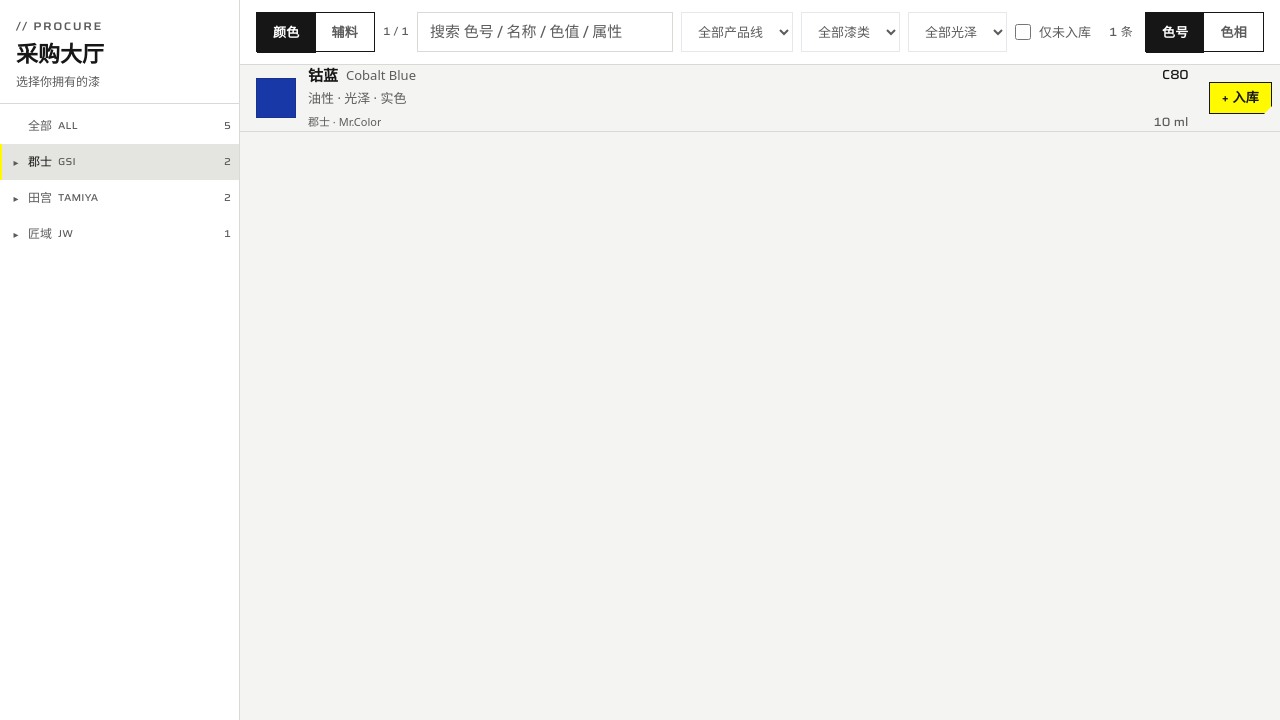
Test: 2.2.2 · 采购页辅料货架与摘要 › 底漆入库弹层也不问「原浆 / 稀释」
Click the tab "辅料".
click(345, 33)  # box 316,13 -> 374,53
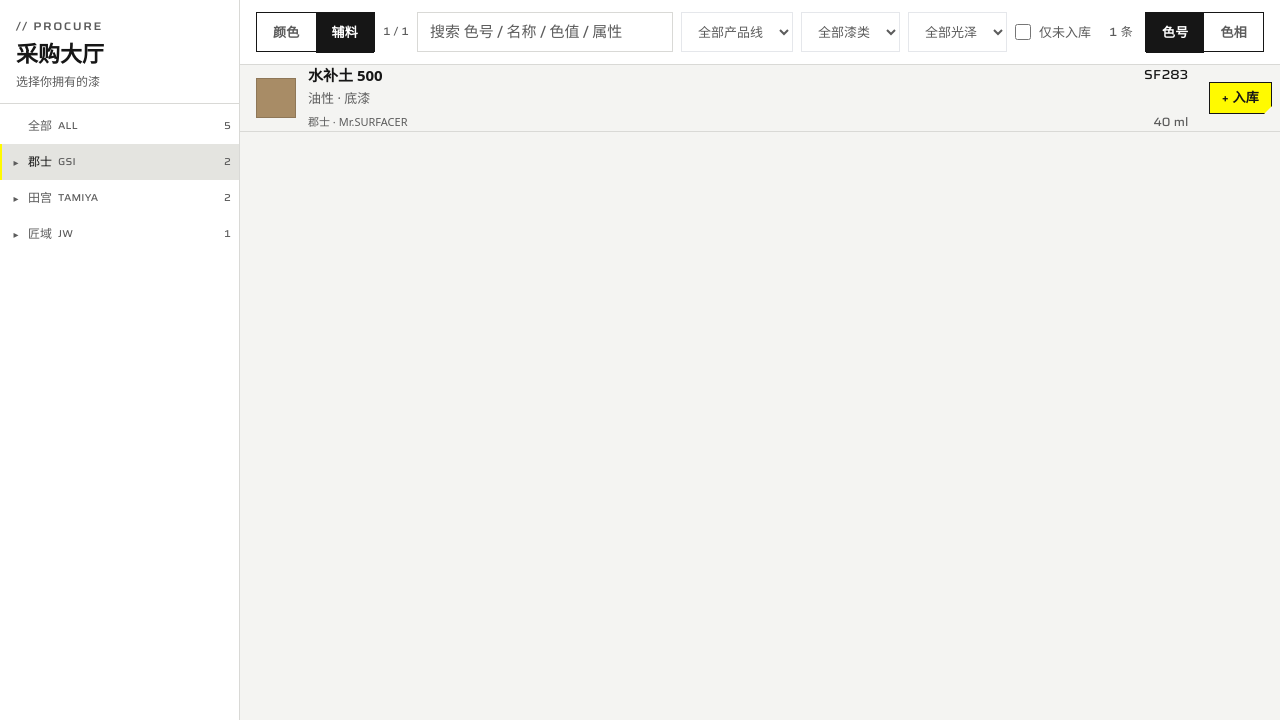
Expected: the option "水补土 500 SF283 油性 · 底漆 郡士 · Mr.SURFACER 40 ml" is shown, 240,65 -> 1209,131
Click the button "+ 入库".
click(1240, 98)  # box 1209,82 -> 1272,114
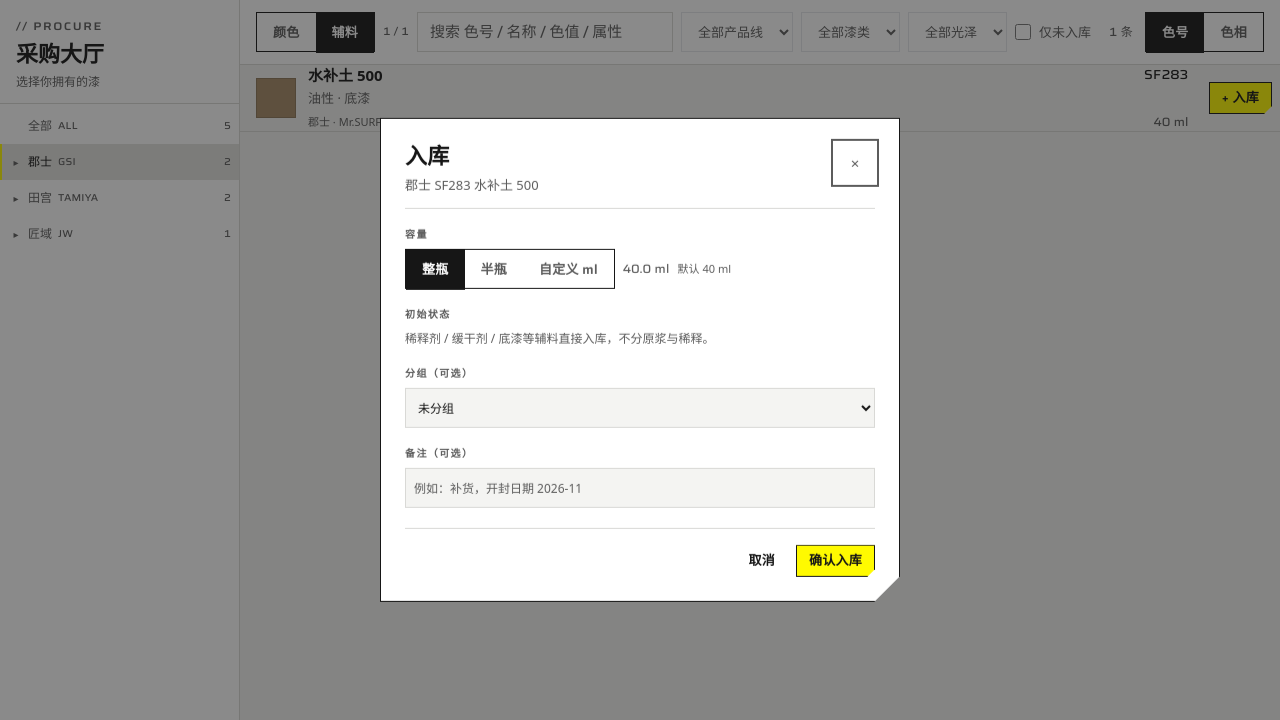
Expected: the text "稀释剂 / 缓干剂 / 底漆等辅料直接入库，不分原浆与稀释。" is shown, 405,330 -> 714,347
